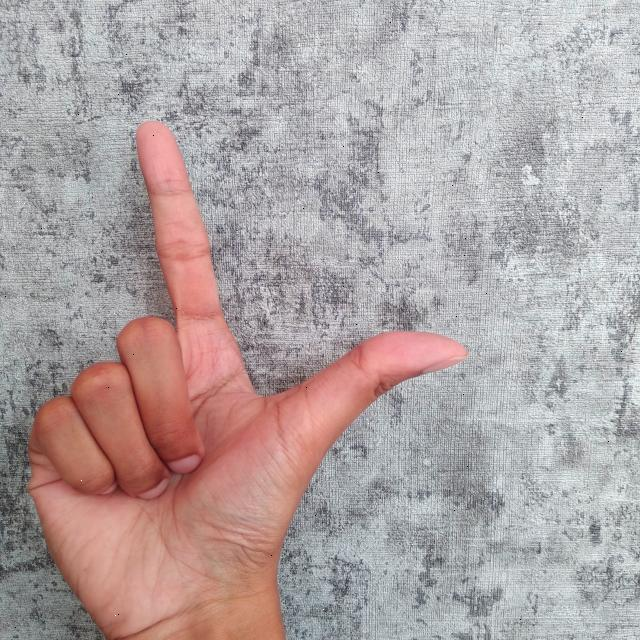L: (16, 109, 478, 640)
